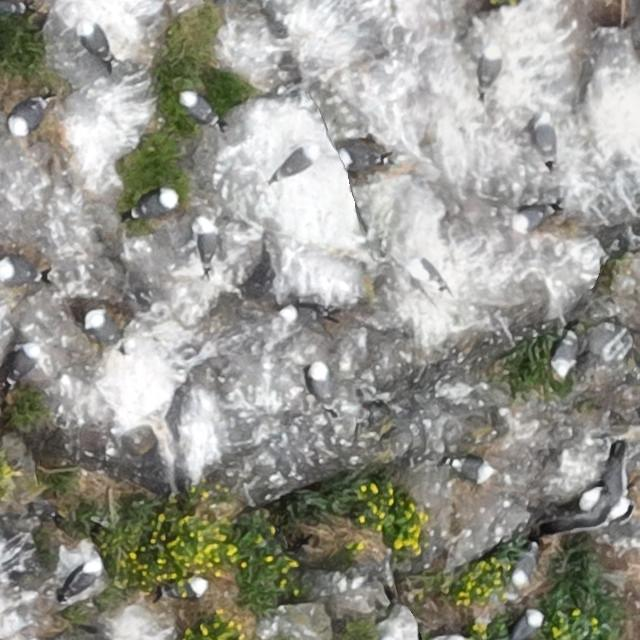F: (550, 445, 634, 530)
umineko: (267, 145, 321, 182), (85, 308, 125, 354), (61, 557, 101, 603), (408, 258, 445, 292), (11, 102, 44, 134), (183, 92, 214, 122), (82, 29, 111, 60), (138, 190, 175, 214), (536, 118, 556, 160), (168, 578, 208, 599), (10, 347, 34, 381), (511, 612, 540, 640), (343, 146, 382, 166), (1, 259, 36, 281), (308, 365, 328, 403), (451, 460, 489, 480), (516, 549, 537, 584), (283, 304, 322, 322), (481, 51, 498, 90), (555, 336, 574, 370), (200, 226, 217, 264), (516, 209, 546, 229), (0, 0, 24, 14)
